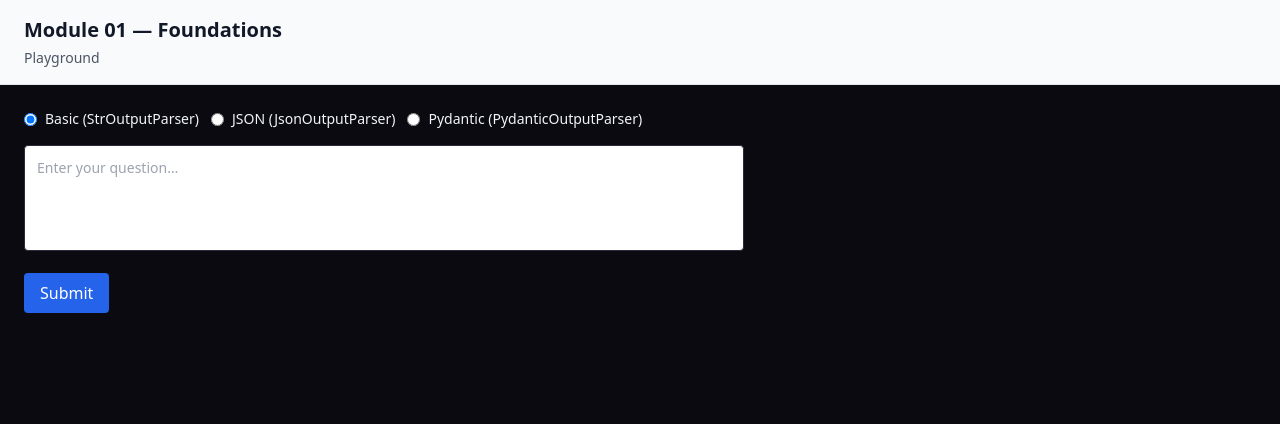
Test: Playground unit tests › displays latency after successful response
In the text box with test id "query-input": (384, 198) [24,145,744,251], type "test"
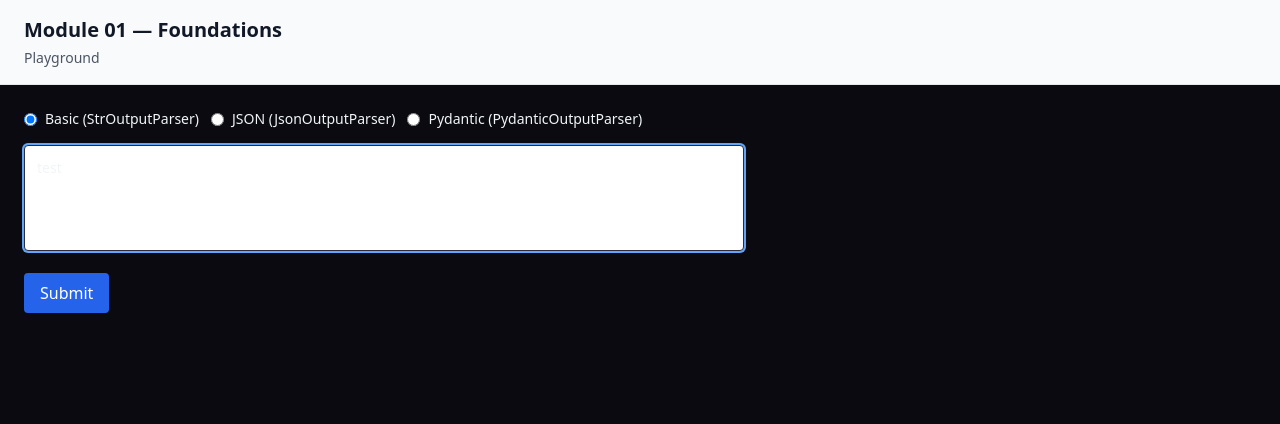
Click the button with test id "submit-btn": (67, 293) [24,273,109,313]
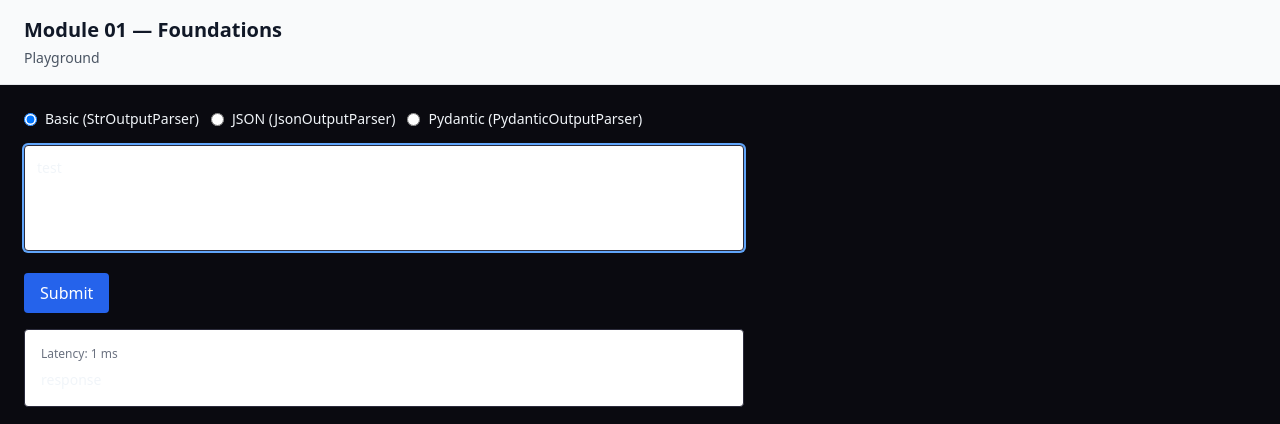
Check: the text with test id "latency" reads "Latency: 1 ms", box [41,345,118,362]
